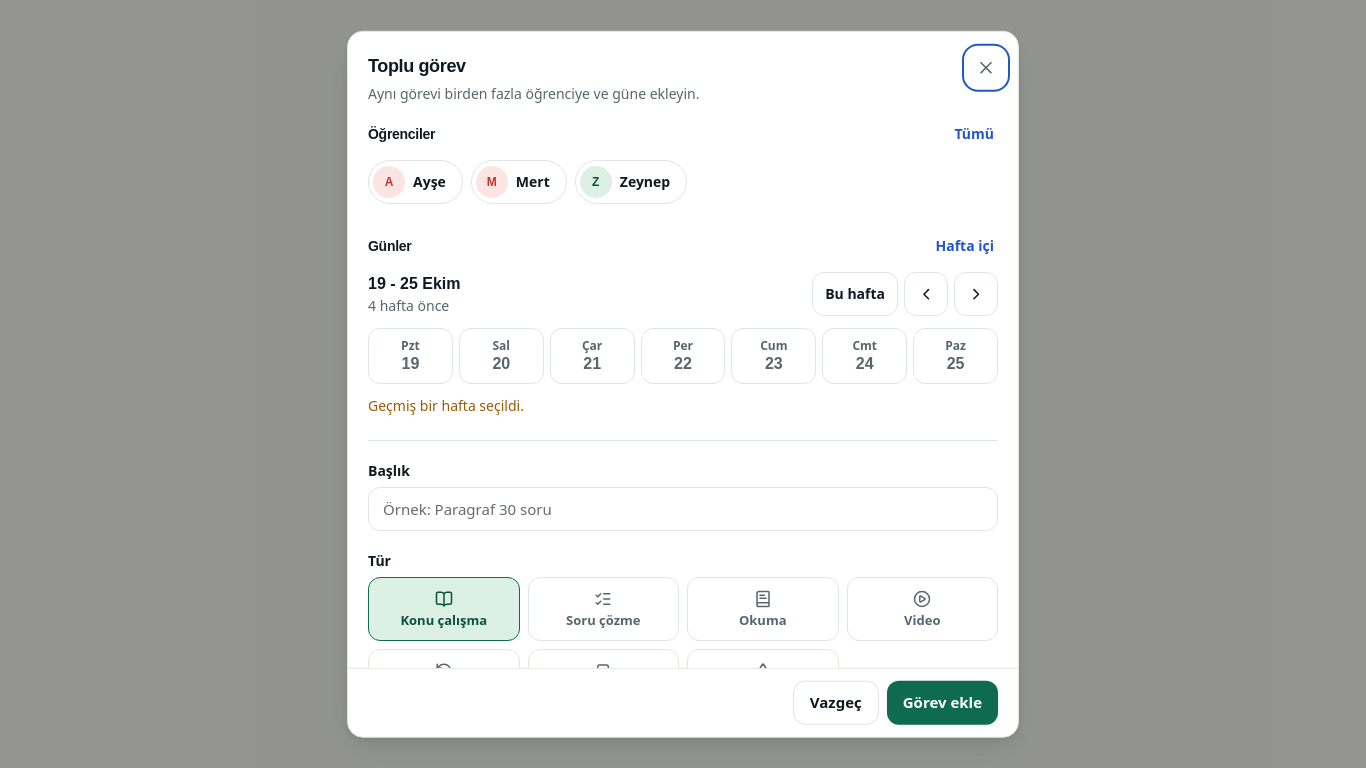
it: toplu görev › başlık boşsa ve ders seçilmemişse hata gösterir, istek atmaz
The width and height of the screenshot is (1366, 768).
Click the button "Tümü". click: (974, 134)
box: [950,112,998,156]
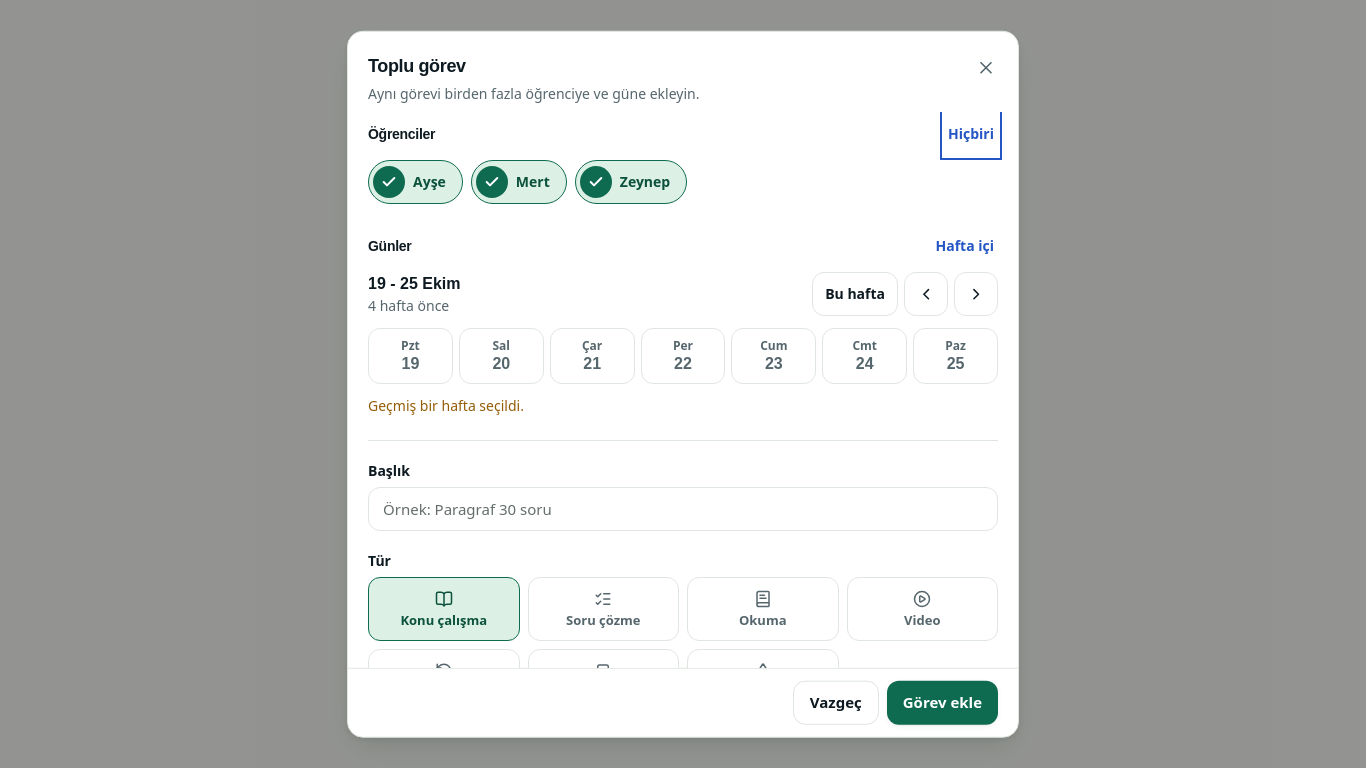
Click the button "Hafta içi". click: (965, 246)
box: [932,224,998,268]
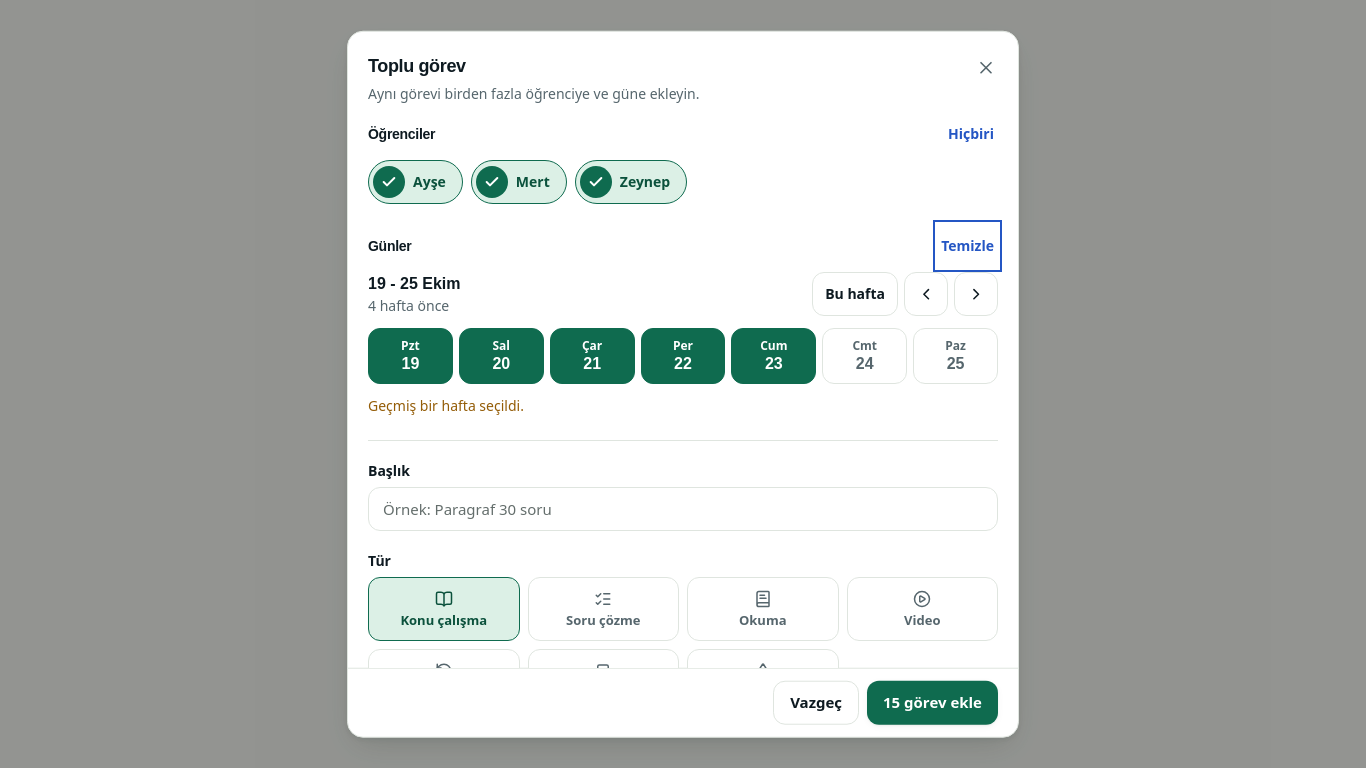
Click the button "15 görev ekle". click: (932, 702)
box: [867,680,998,724]
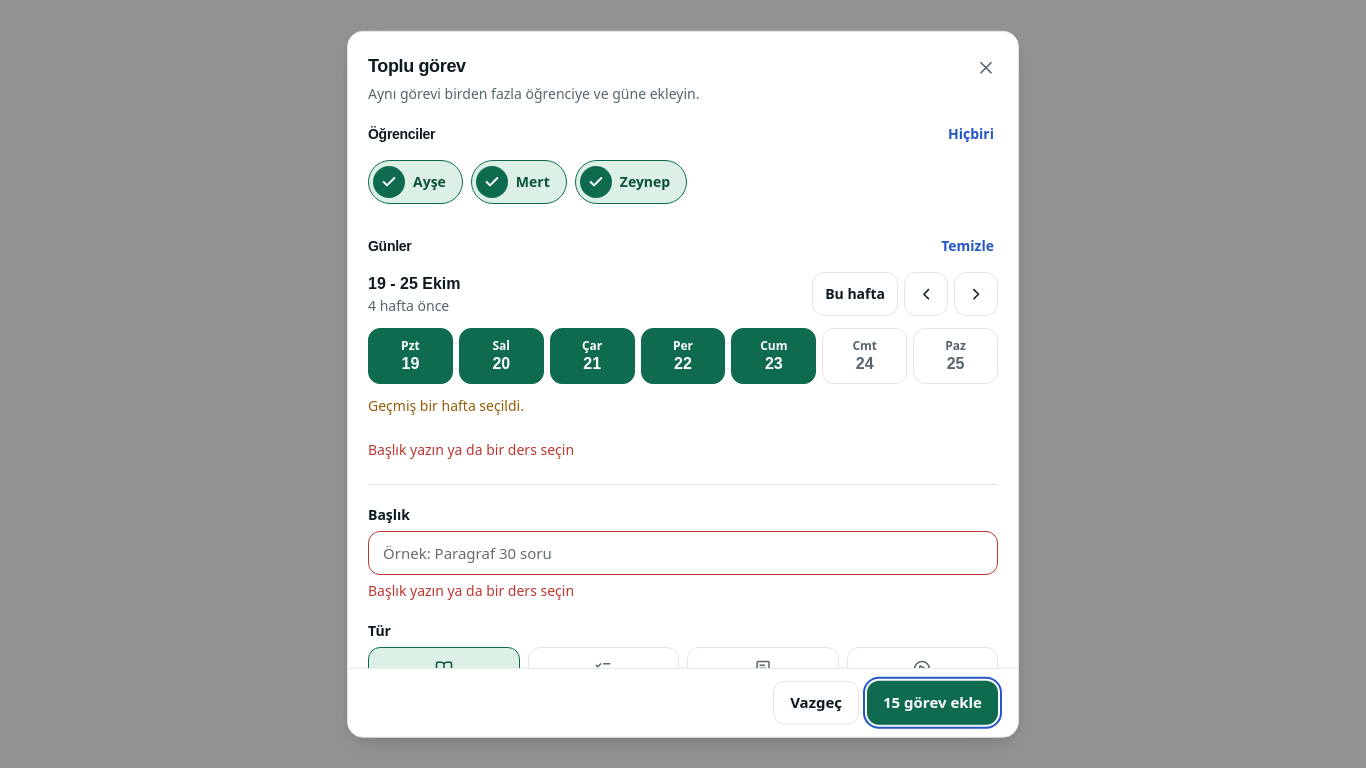
Check: the text "Başlık yazın ya da bir ders seçin" is shown, box [368,440,574,459]
